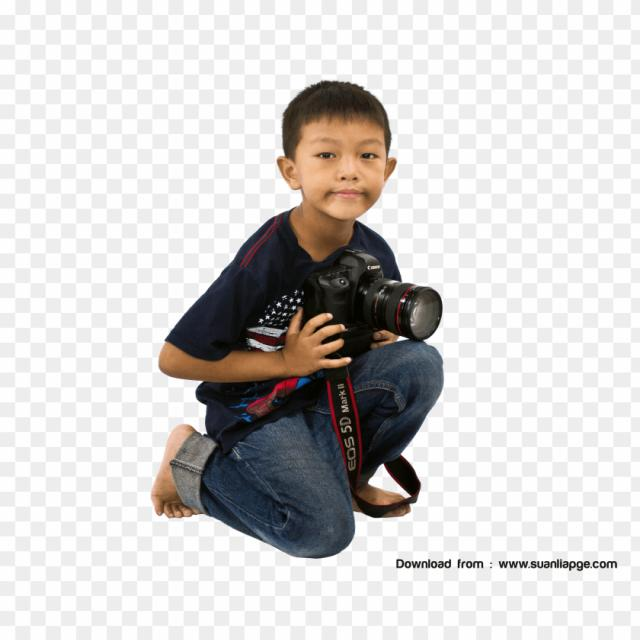child: (152, 65, 444, 565)
